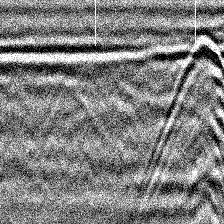Utility: (150, 34, 224, 189)
